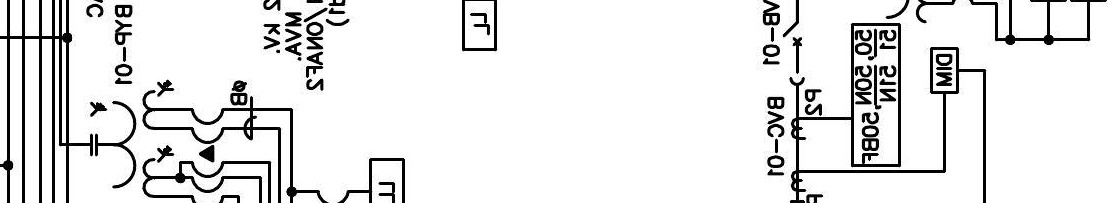115_cvt_3p: (90, 79, 175, 199)
DIM: (930, 47, 959, 94)
